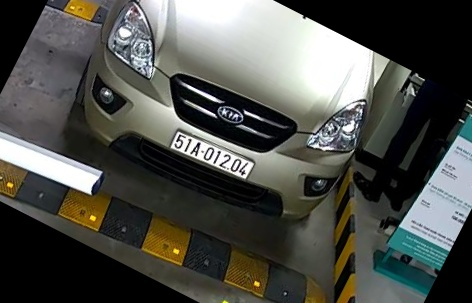plate: (167, 124, 257, 186)
